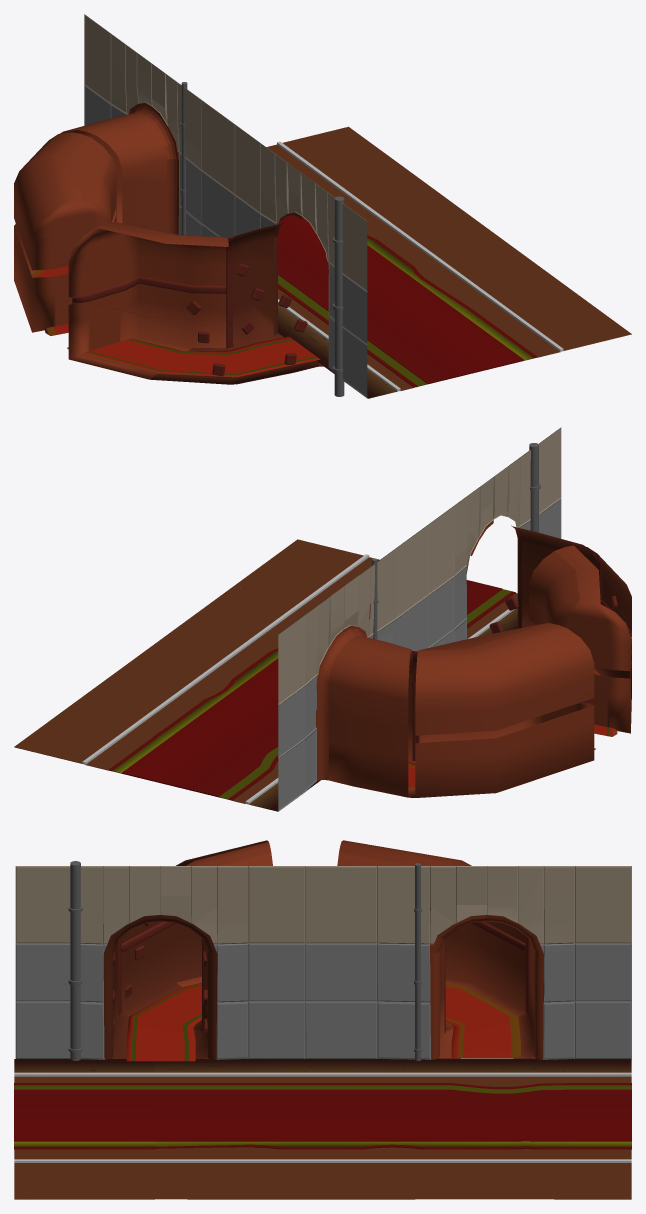
The picture shows the model from 3 angles, top to bottom: view 1: azimuth 30°, elevation 25°; view 2: azimuth 150°, elevation 25°; view 3: azimuth 270°, elevation 25°; orthographic projection. The views are drawn at different scales.
Visible parts, largest first — view 1: WallLeft, Wall2, polySurface18, polySurface16, polySurface13, Pipe_0, polySurface17, Pipe_1; view 2: Wall2, WallLeft, polySurface16, polySurface18, polySurface13, polySurface15, polySurface17, Pipe_0, polySurface14; view 3: Wall2, WallLeft, polySurface18, polySurface16, polySurface13, Pipe_0, polySurface15, polySurface14, polySurface12, polySurface17, Pipe_1.
Boxes of the visible parts, left/top/right/bottom form: WallLeft: left=67, top=124, right=367, bottom=397; Wall2: left=14, top=14, right=234, bottom=335; polySurface18: left=278, top=234, right=631, bottom=398; polySurface16: left=266, top=126, right=495, bottom=257; polySurface13: left=278, top=215, right=400, bottom=287; Pipe_0: left=333, top=196, right=344, bottom=396; polySurface17: left=277, top=141, right=426, bottom=251; Pipe_1: left=180, top=82, right=187, bottom=235; Wall2: left=278, top=524, right=595, bottom=811; WallLeft: left=428, top=427, right=631, bottom=736; polySurface16: left=14, top=639, right=321, bottom=811; polySurface18: left=162, top=539, right=517, bottom=666; polySurface13: left=108, top=662, right=278, bottom=800; polySurface15: left=112, top=663, right=268, bottom=773; polySurface17: left=82, top=654, right=232, bottom=764; Pipe_0: left=529, top=443, right=540, bottom=532; polySurface14: left=219, top=747, right=278, bottom=799; Wall2: left=305, top=840, right=631, bottom=1059; WallLeft: left=15, top=840, right=305, bottom=1061; polySurface18: left=14, top=1059, right=310, bottom=1199; polySurface16: left=310, top=1058, right=631, bottom=1199; polySurface13: left=310, top=1083, right=631, bottom=1149; Pipe_0: left=68, top=861, right=82, bottom=1060; polySurface15: left=310, top=1141, right=631, bottom=1146; polySurface14: left=310, top=1085, right=631, bottom=1093; polySurface12: left=310, top=1072, right=631, bottom=1076; polySurface17: left=310, top=1159, right=631, bottom=1162; Pipe_1: left=414, top=863, right=421, bottom=1060.
Size of the model in its own units: 105 by 44.05 by 115.
